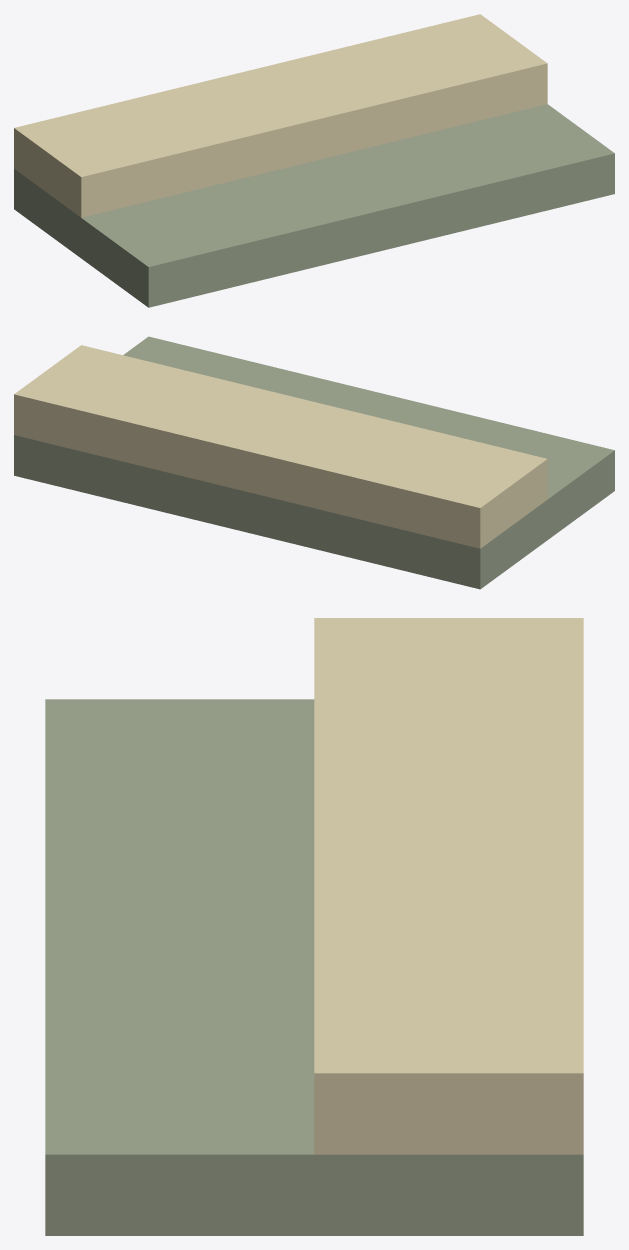
File: stair-segment.glb
3 renders of one model, top to bottom at view 1: azimuth 30°, elevation 25°; view 2: azimuth 150°, elevation 25°; view 3: azimuth 270°, elevation 25°, orthographic. The views are drawn at different scales.
Parts seen in each view (by area): view 1: stair-segment; view 2: stair-segment; view 3: stair-segment.
Boxes of the visible parts, x1,y1,x2,y2 form: stair-segment: (14,14,614,307); stair-segment: (14,336,614,589); stair-segment: (45,618,583,1235).
Size of the model in its own units: 1.2 by 0.2 by 0.6.
